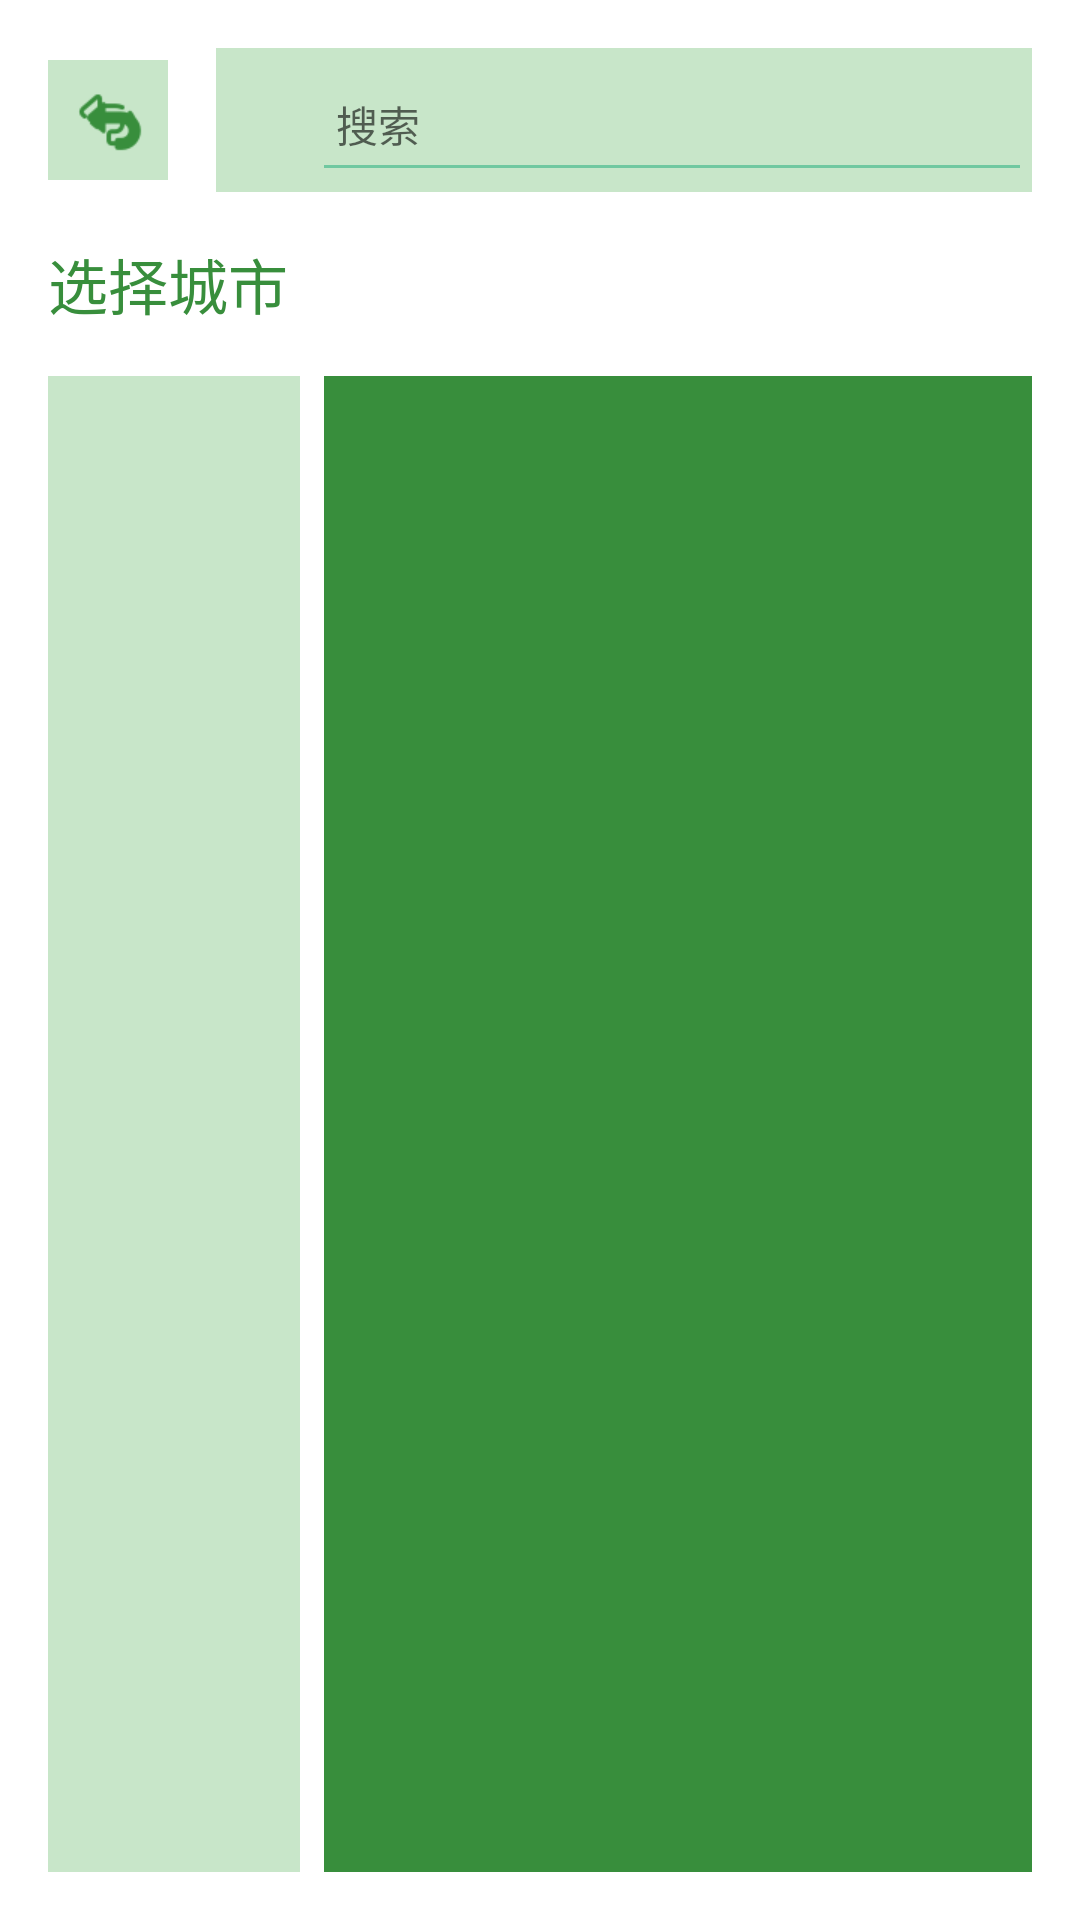

Icons on this 1080 × 1920 Android screen, each with the point to tap as point (x, y):
return: point (108, 120)
